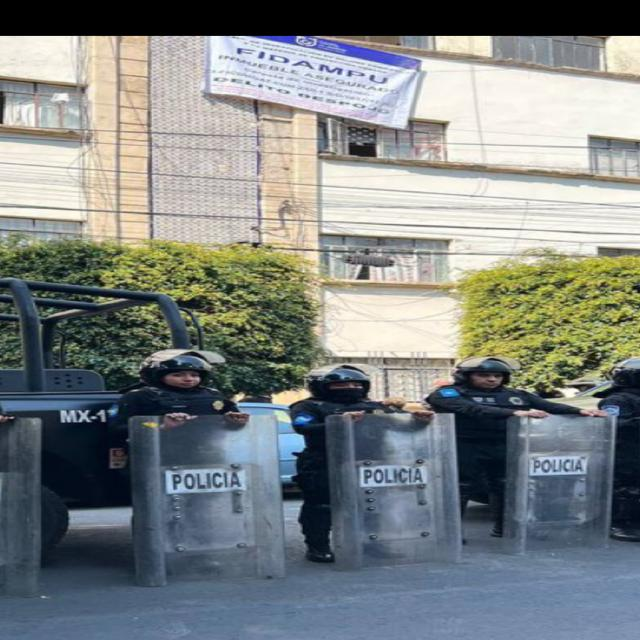stamps: (208, 35, 422, 130)
